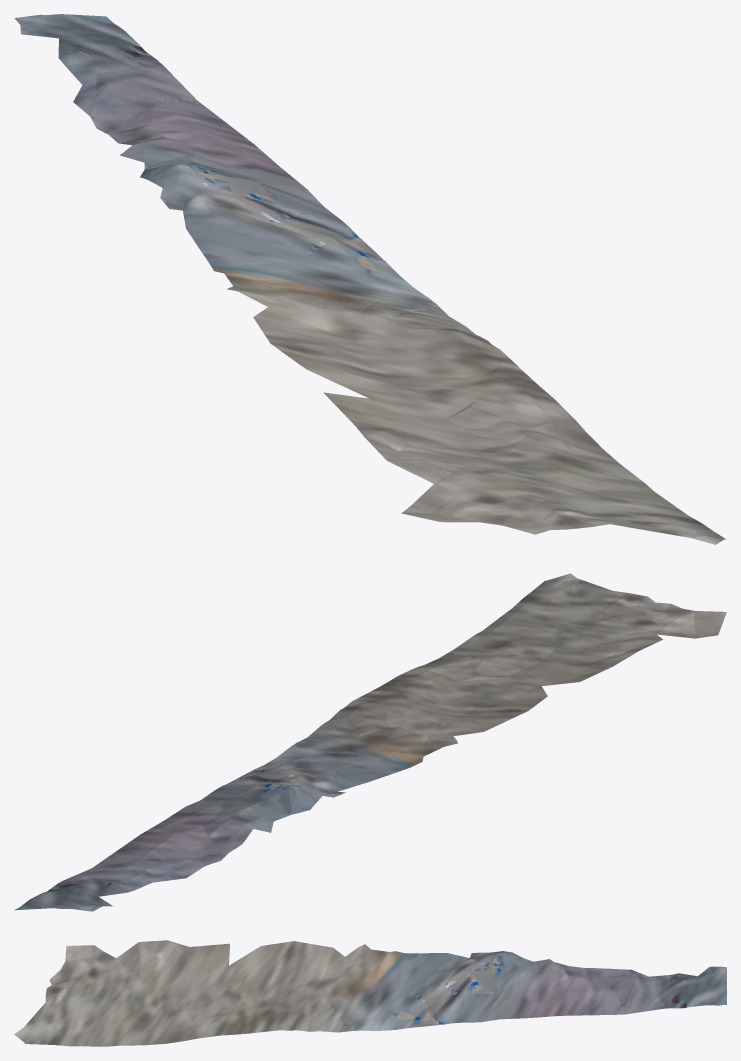
The picture shows the model from 3 angles, top to bottom: view 1: azimuth 30°, elevation 25°; view 2: azimuth 150°, elevation 25°; view 3: azimuth 270°, elevation 25°; orthographic projection. The views are drawn at different scales.
Size of the model in its own units: 0.3634 by 0.1358 by 1.5.
1 material, 1 textured.
